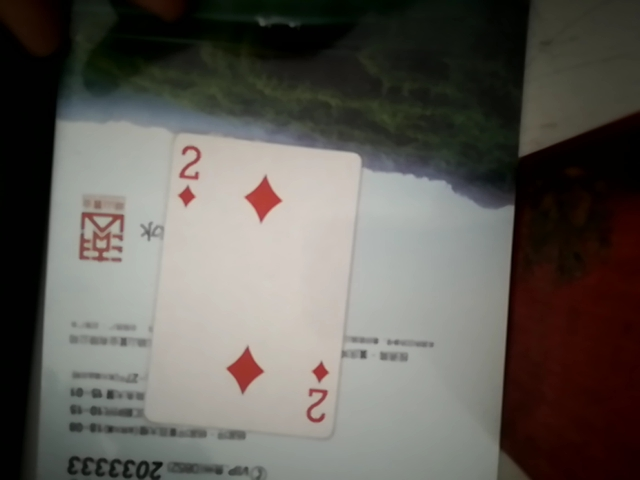fk 2: (156, 132, 350, 439)
